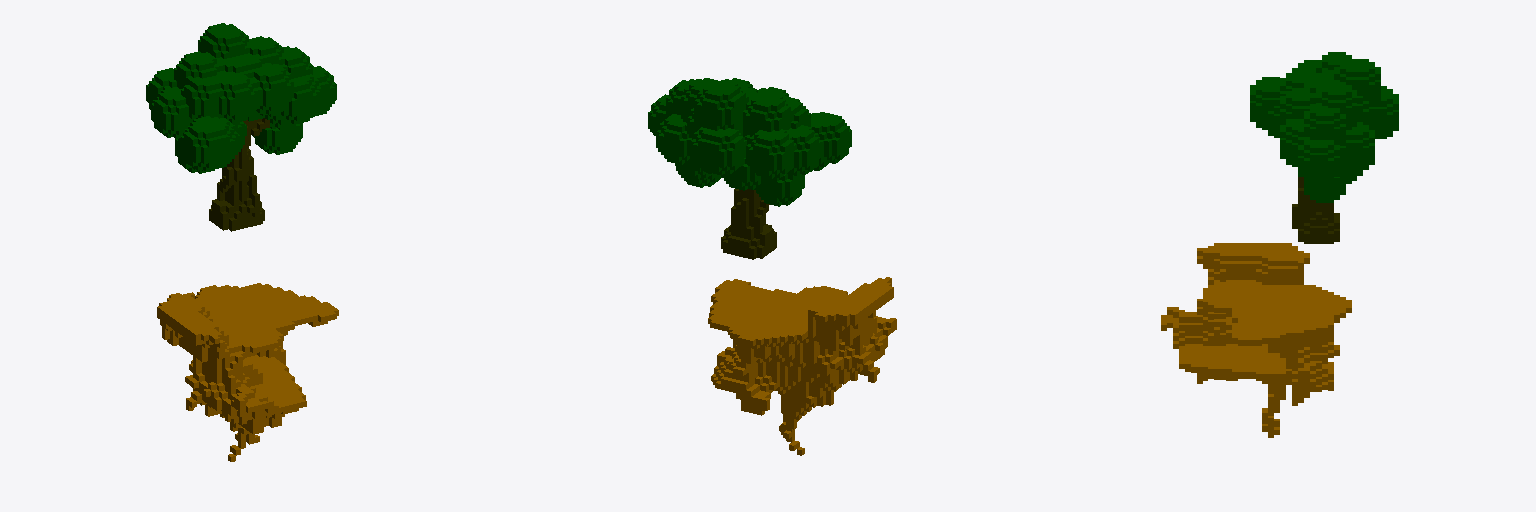
3 renders of one model, left to right at view 1: azimuth 30°, elevation 25°; view 2: azimuth 150°, elevation 25°; view 3: azimuth 270°, elevation 25°, orthographic.
Size of the model in its own units: 36 by 72 by 40.
Materials: 1 (1 with a texture image).